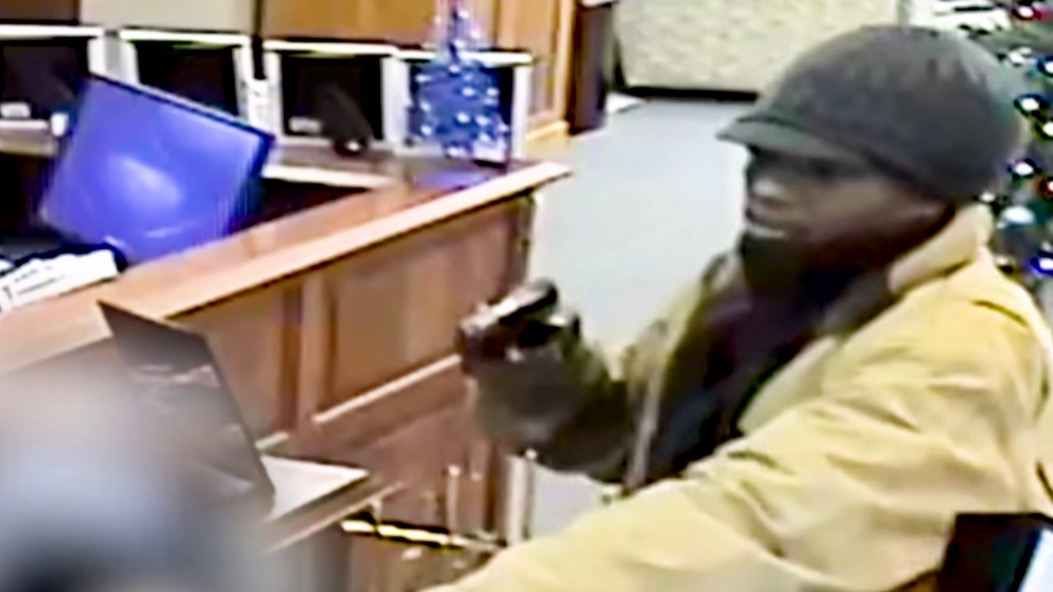helmet: (755, 16, 1020, 131)
